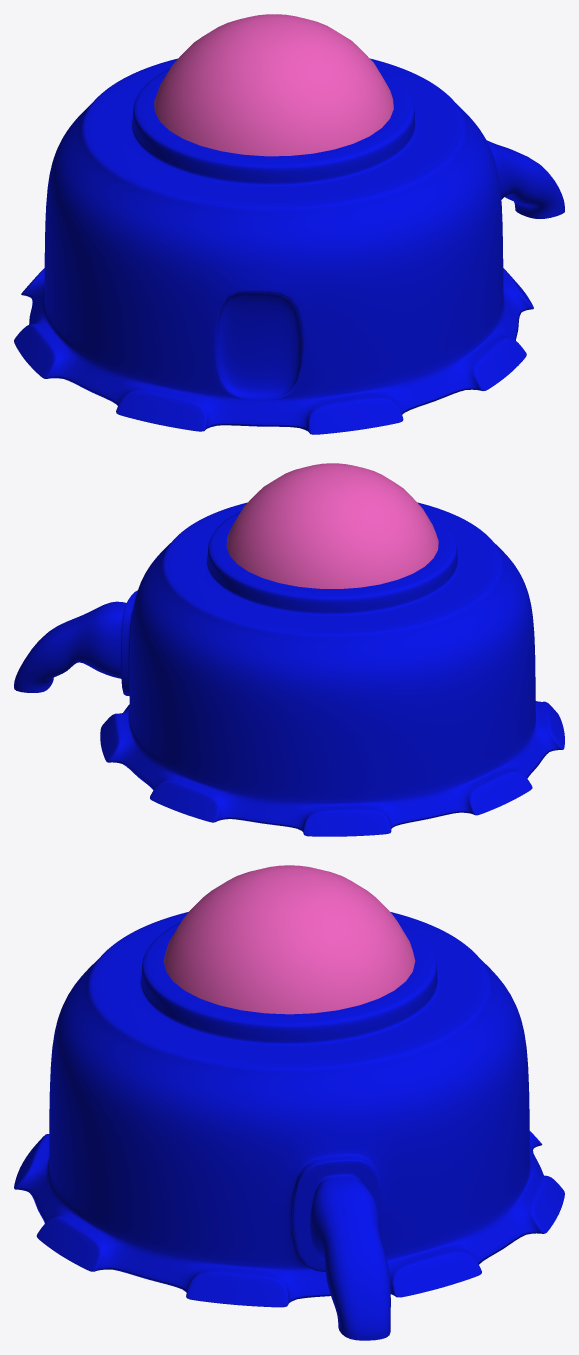
Rendered from BaseTower.glb.
3 renders of one model, top to bottom at view 1: azimuth 30°, elevation 25°; view 2: azimuth 150°, elevation 25°; view 3: azimuth 270°, elevation 25°, orthographic. The views are drawn at different scales.
Visible parts, largest first — view 1: Cylinder; view 2: Cylinder; view 3: Cylinder.
Part boxes in pixels (x1,y1,x2,y2): Cylinder: (14,14,564,434); Cylinder: (14,463,564,836); Cylinder: (14,865,564,1340).
Bounding box in the file's own units: 53.23 × 27.76 × 44.2.
